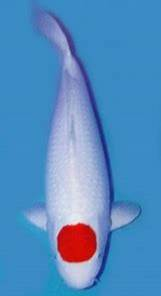sun: (22, 8, 140, 290)
